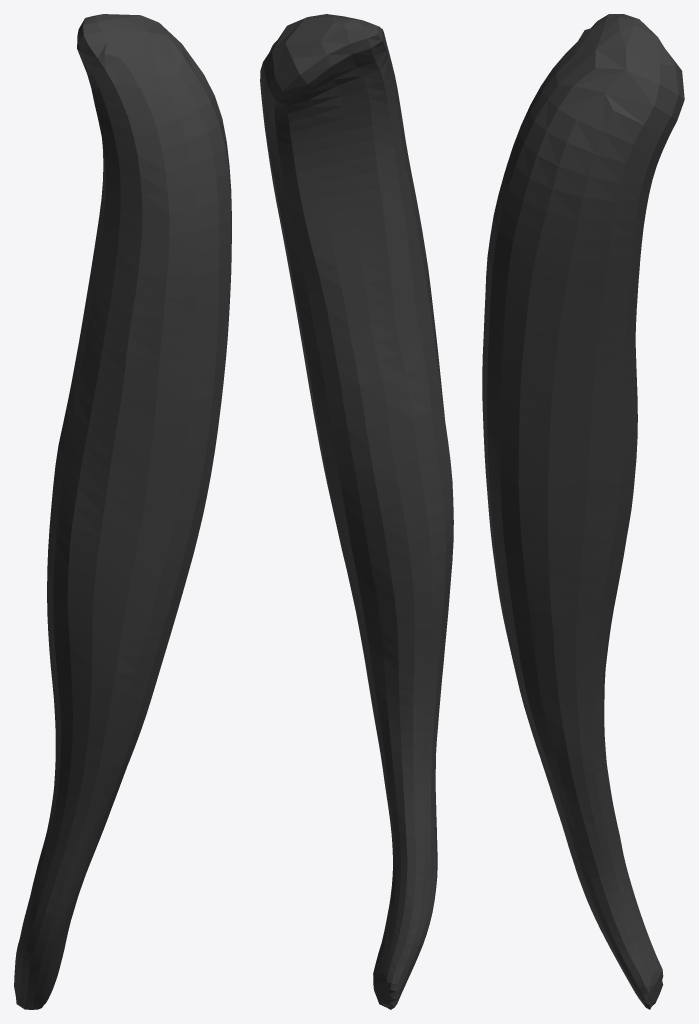
File: Extensor_carpi_radialis.glb
3 views of the same model, side by side, from view 1: azimuth 30°, elevation 25°; view 2: azimuth 150°, elevation 25°; view 3: azimuth 270°, elevation 25° (orthographic). The views are drawn at different scales.
Visible parts, largest first — view 1: Extensor_carpi_radialis; view 2: Extensor_carpi_radialis; view 3: Extensor_carpi_radialis.
Boxes of the visible parts, x1,y1,x2,y2 form: Extensor_carpi_radialis: [14, 14, 231, 1009]; Extensor_carpi_radialis: [260, 14, 453, 1009]; Extensor_carpi_radialis: [482, 14, 684, 1009].
Size of the model in its own units: 19.02 by 102 by 18.52.
1 material, 1 textured.
